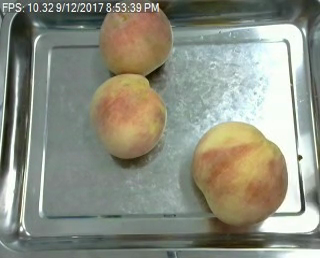Peach: (192, 120, 287, 227), (91, 72, 166, 159), (100, 2, 173, 78)
